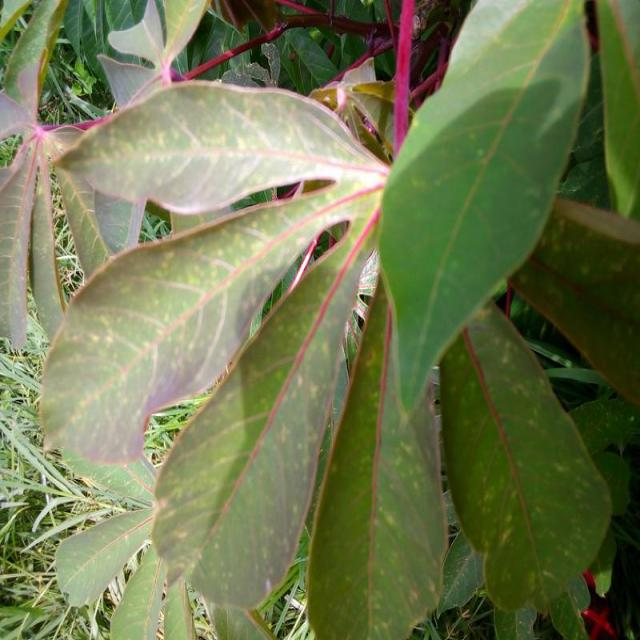cassava leaf: (35, 1, 607, 637), (376, 0, 590, 415), (437, 296, 613, 614), (305, 263, 448, 638)
